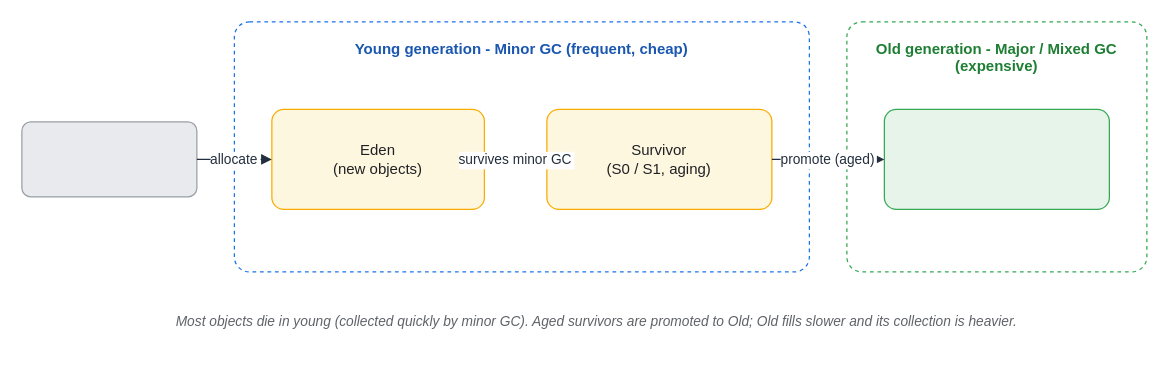
Some shapes in this 1169 by 369 pixel diagram are drawn without their labels. Here are the shapes that lost their labels. From the top down, the centre of each, then its label:
At (x=109, y=159): "new object".
At (x=996, y=158): "Old (long-lived)".
